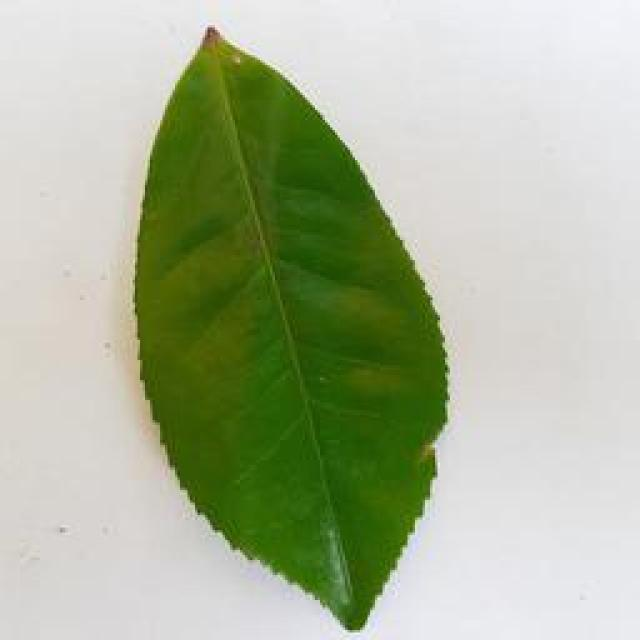Healthy: (137, 20, 450, 633)
